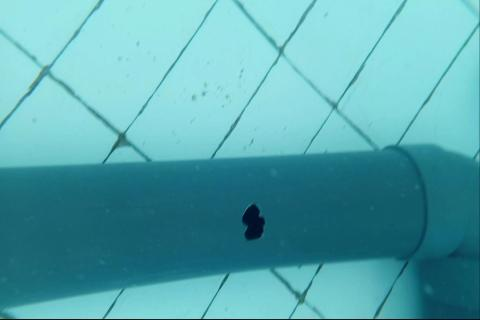kebocoran: (241, 203, 265, 242)
